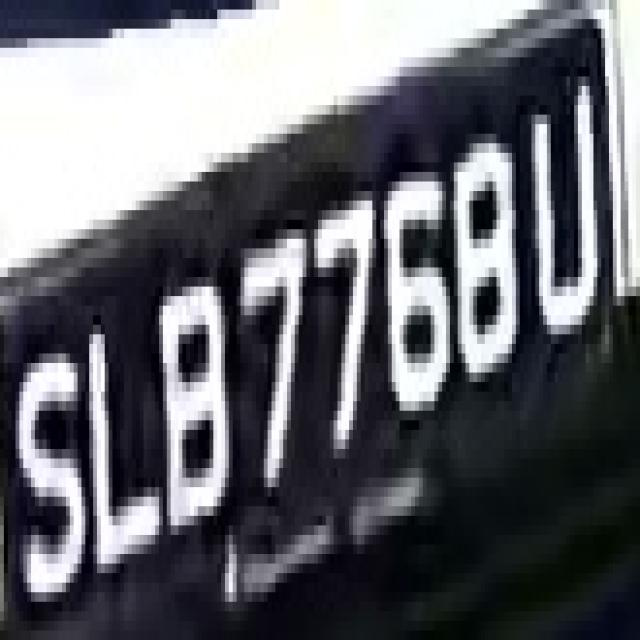6: (376, 134, 450, 430)
7: (302, 182, 388, 487), (237, 220, 314, 506)
8: (446, 115, 528, 420)
B: (155, 258, 233, 554)
L: (77, 287, 166, 592)
S: (15, 296, 81, 631)
U: (520, 67, 605, 372)
